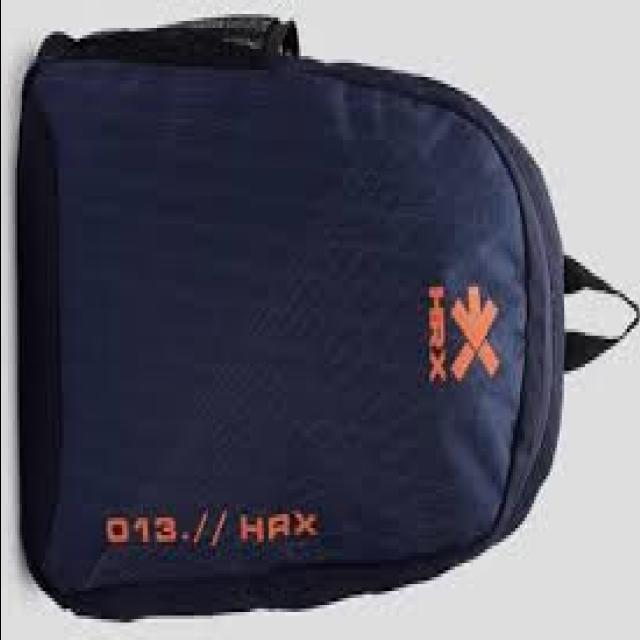backpack: (17, 12, 640, 624)
